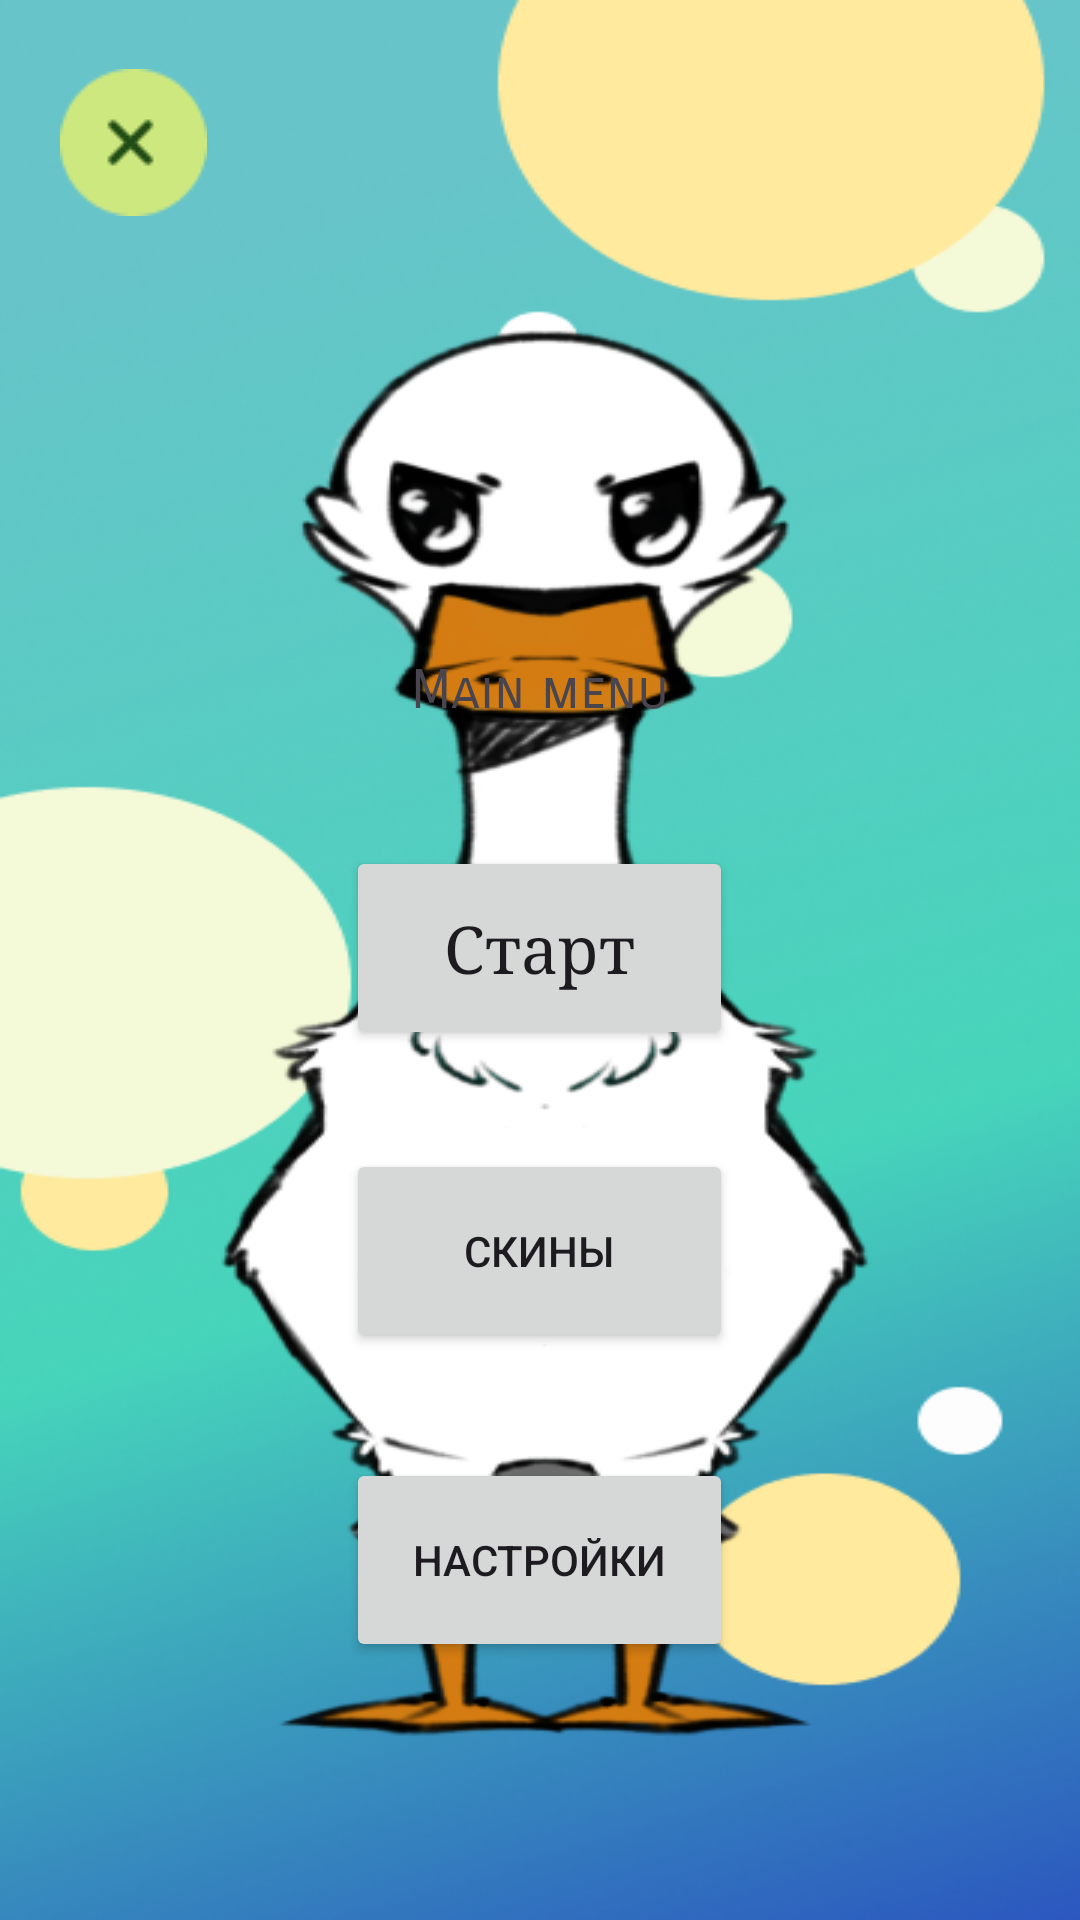

Icons on this 1080w x 1920h Android screen, each with its box as (x1, y1, x2, y2):
exit: (60, 69, 207, 216)
